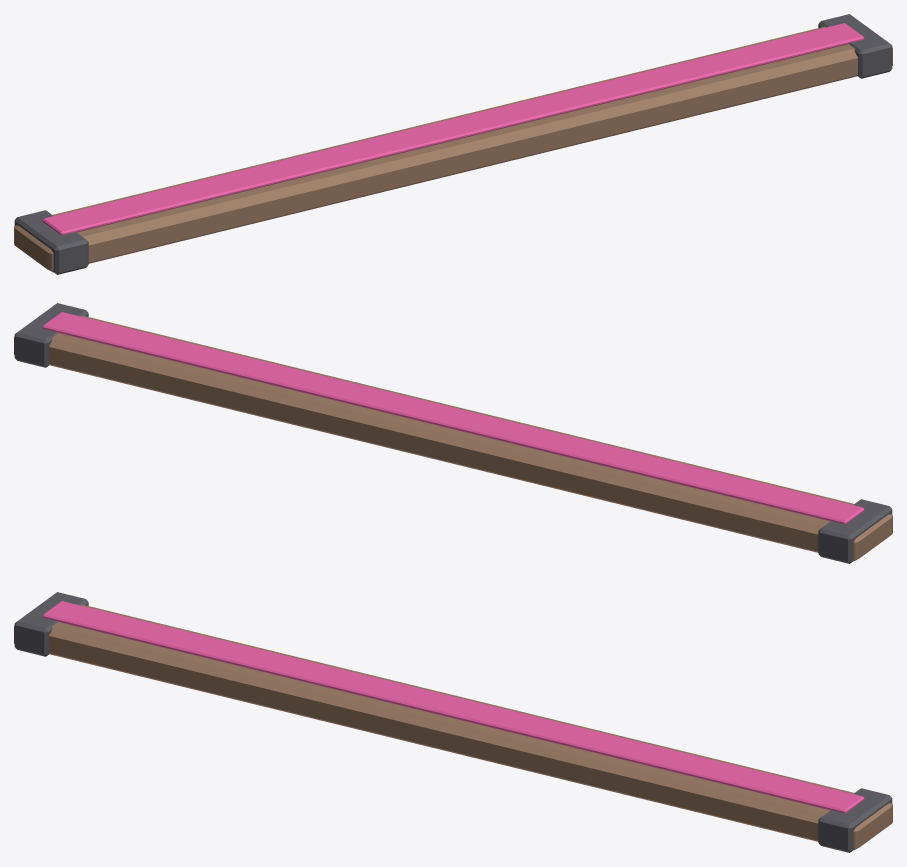
File: bowling-alley-and-pool-hall-oche-line-88123955__33864.glb
3 views of the same model, one above another, from view 1: azimuth 30°, elevation 25°; view 2: azimuth 150°, elevation 25°; view 3: azimuth 330°, elevation 25° (orthographic).
Visible parts, largest first — view 1: oche-line; view 2: oche-line; view 3: oche-line.
Part boxes in pixels (<box>): oche-line: <box>14,14,892,274</box>; oche-line: <box>14,303,892,563</box>; oche-line: <box>14,592,892,852</box>.
Bounding box in the file's own units: 1.24 × 0.044 × 0.1101.
